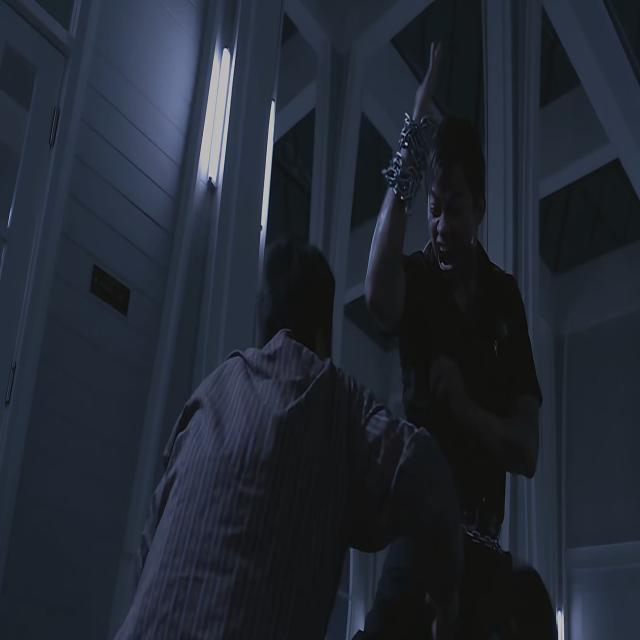fight: (112, 33, 560, 640)
